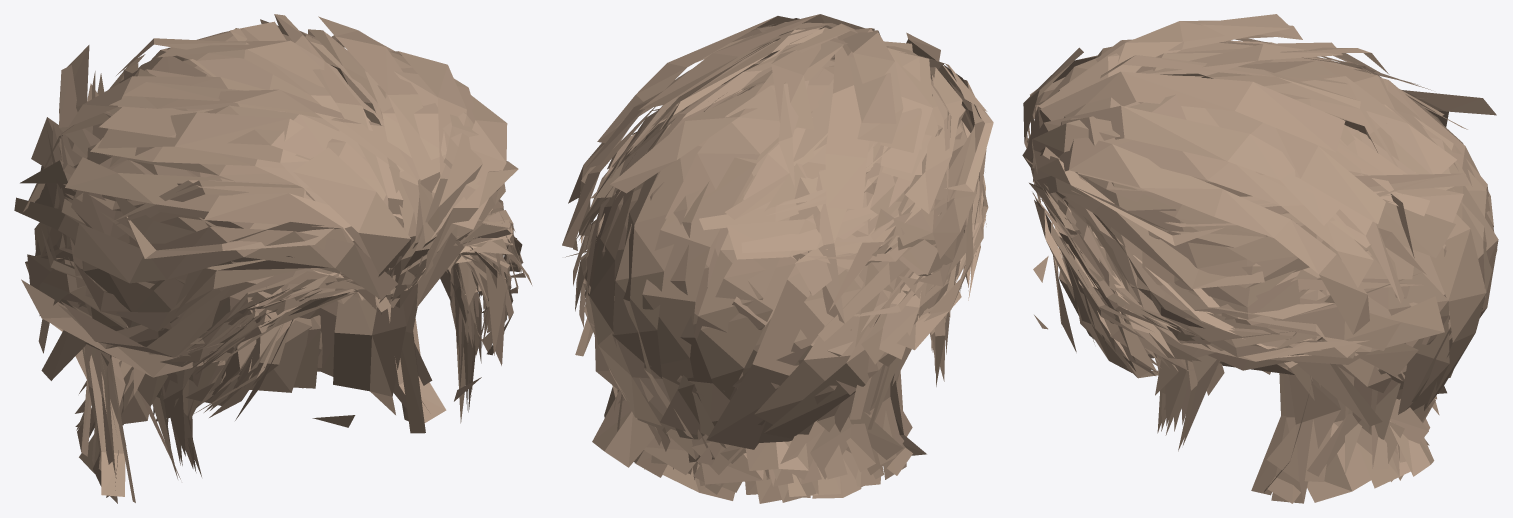
Rendered from male_hair_11_lod1.glb.
The picture shows the model from 3 angles, left to right: view 1: azimuth 30°, elevation 25°; view 2: azimuth 150°, elevation 25°; view 3: azimuth 270°, elevation 25°; orthographic projection. The views are drawn at different scales.
Parts seen in each view (by area): view 1: hair_11; view 2: hair_11; view 3: hair_11.
Boxes of the visible parts, <box> form: hair_11: <box>14,14,532,503</box>; hair_11: <box>562,14,993,503</box>; hair_11: <box>1022,14,1498,503</box>.
Size of the model in its own units: 0.1824 by 0.1922 by 0.2144.
